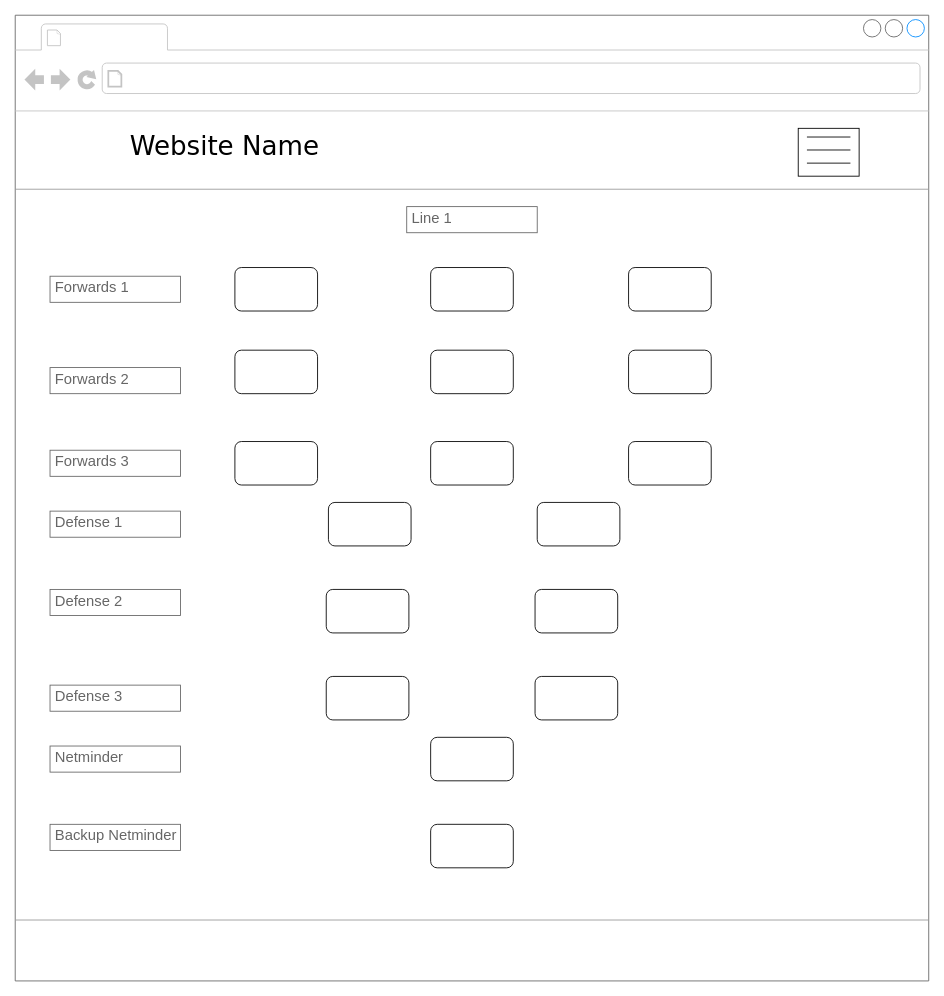
This 944x996 diagram has some shape labels left out. Here are the shapes that lost their labels. From the top down, the centre of each, then its label:
[115,36]: Page 1
[236,78]: https://www.default.com
